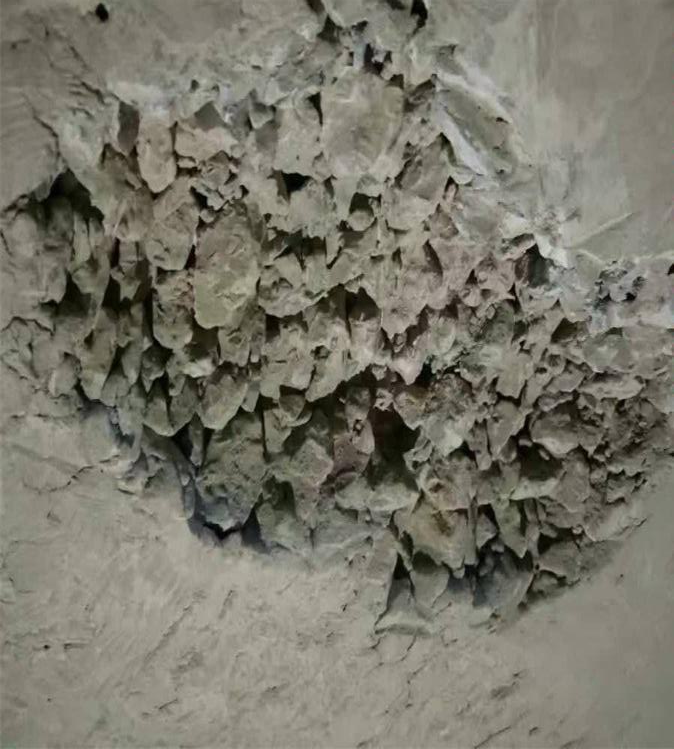Spalling: (1, 1, 674, 634)
